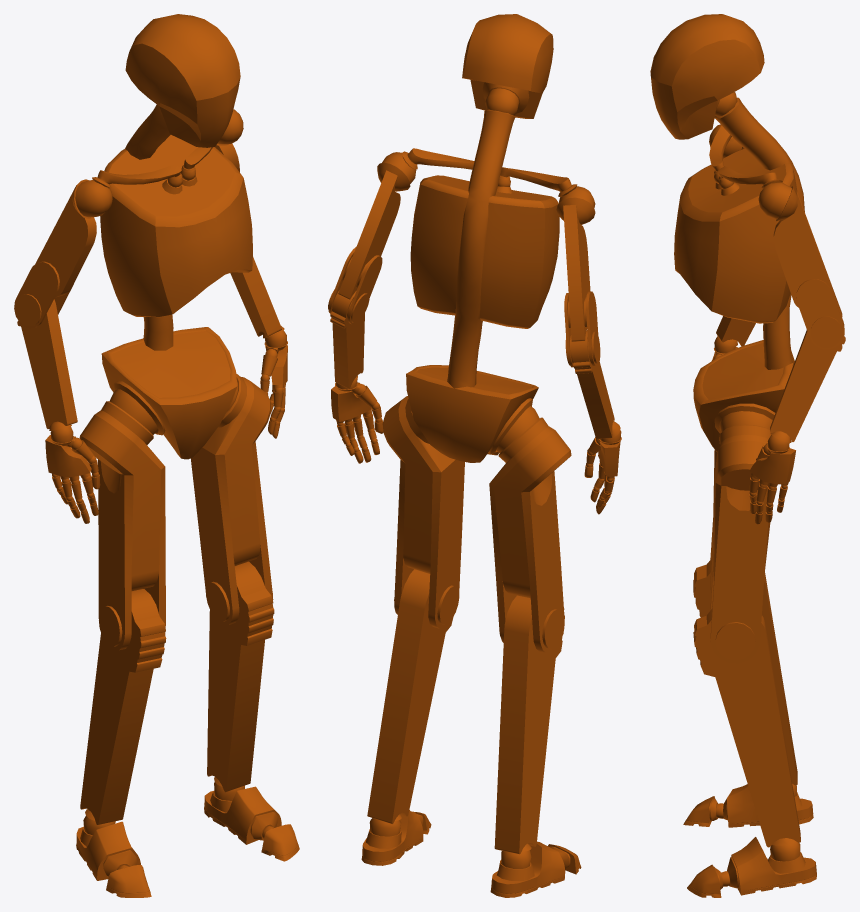
Rendered from RobotAnimacja_000015.obj.
The picture shows the model from 3 angles, left to right: view 1: azimuth 30°, elevation 25°; view 2: azimuth 150°, elevation 25°; view 3: azimuth 270°, elevation 25°; orthographic projection. The views are drawn at different scales.
Visible parts, largest first — view 1: free3dmodel.001; view 2: free3dmodel.001; view 3: free3dmodel.001.
Boxes of the visible parts, <box> form: free3dmodel.001: <box>14,14,299,897</box>; free3dmodel.001: <box>328,14,621,897</box>; free3dmodel.001: <box>650,14,845,897</box>.
Size of the model in its own units: 1.97 by 6.01 by 1.28.
